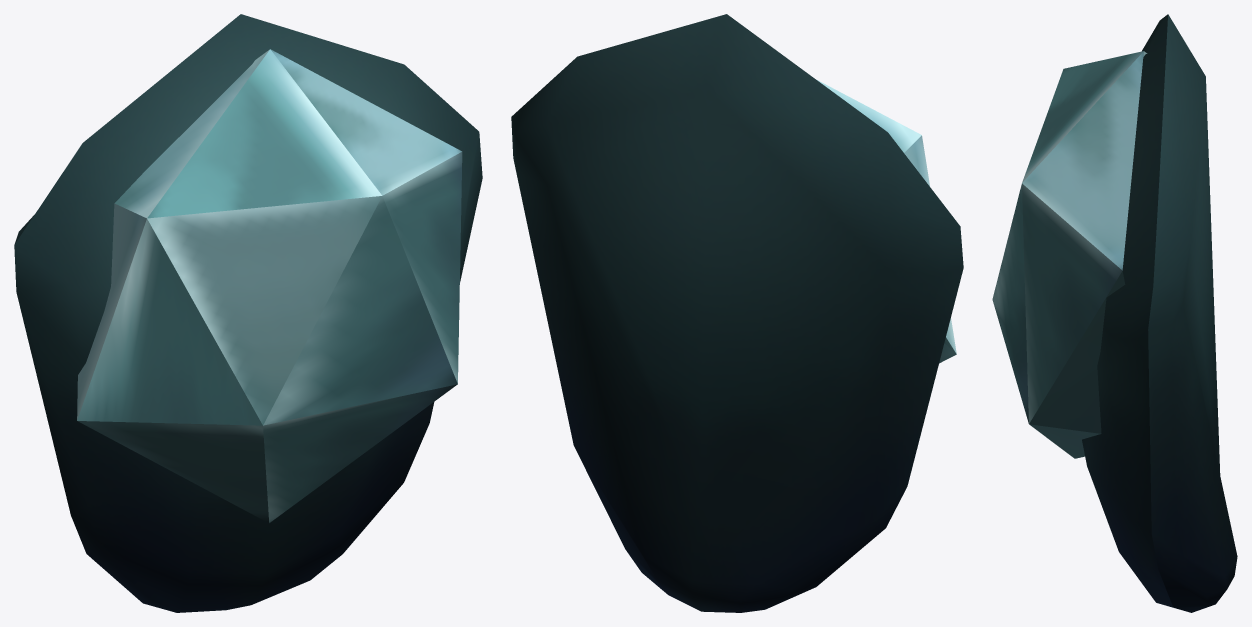
File: Shieldstone.glb
The picture shows the model from 3 angles, left to right: view 1: azimuth 30°, elevation 25°; view 2: azimuth 150°, elevation 25°; view 3: azimuth 270°, elevation 25°; orthographic projection. The views are drawn at different scales.
Parts seen in each view (by area): view 1: Icosphere, lp_model; view 2: lp_model, Icosphere; view 3: lp_model, Icosphere.
Part boxes in pixels (bbox=[...]): Icosphere: bbox=[77, 49, 462, 523]; lp_model: bbox=[14, 14, 482, 612]; lp_model: bbox=[511, 14, 963, 612]; Icosphere: bbox=[816, 79, 956, 363]; lp_model: bbox=[1082, 14, 1237, 612]; Icosphere: bbox=[992, 51, 1147, 458].
Bounding box in the file's own units: 0.1582 × 0.1968 × 0.0744.
1 material, 1 textured.
